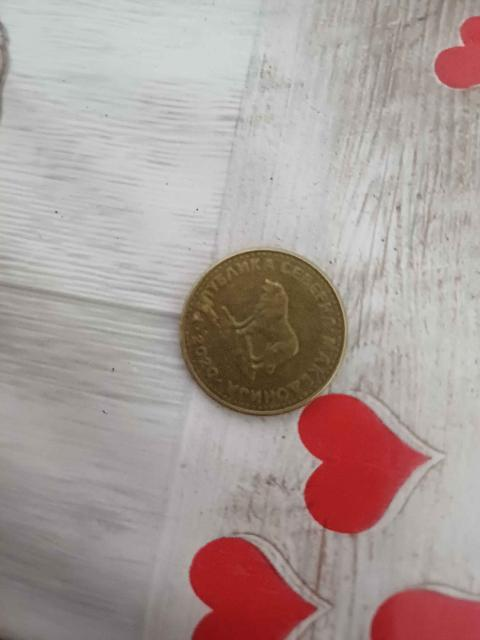1_coin: (181, 249, 347, 415)
